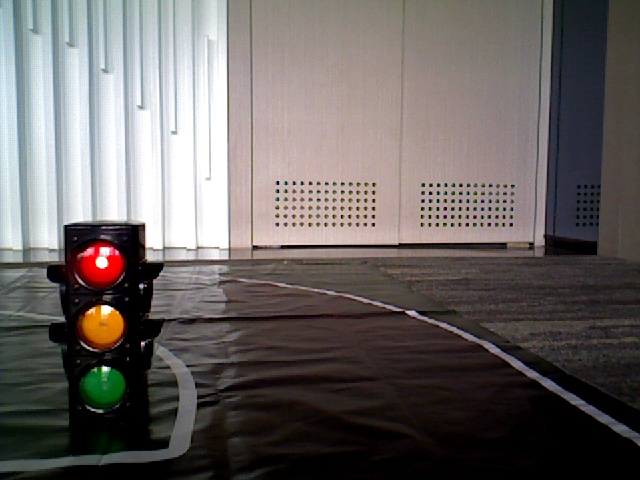red: (66, 225, 138, 425)
